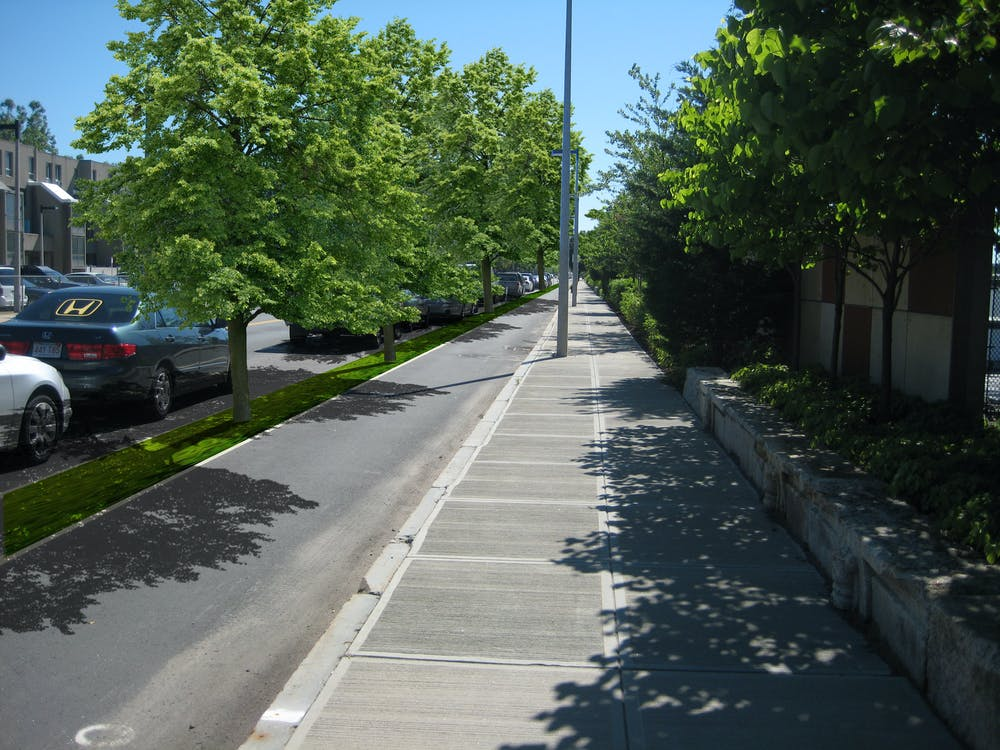tree: (654, 1, 1000, 414), (69, 1, 395, 426)
